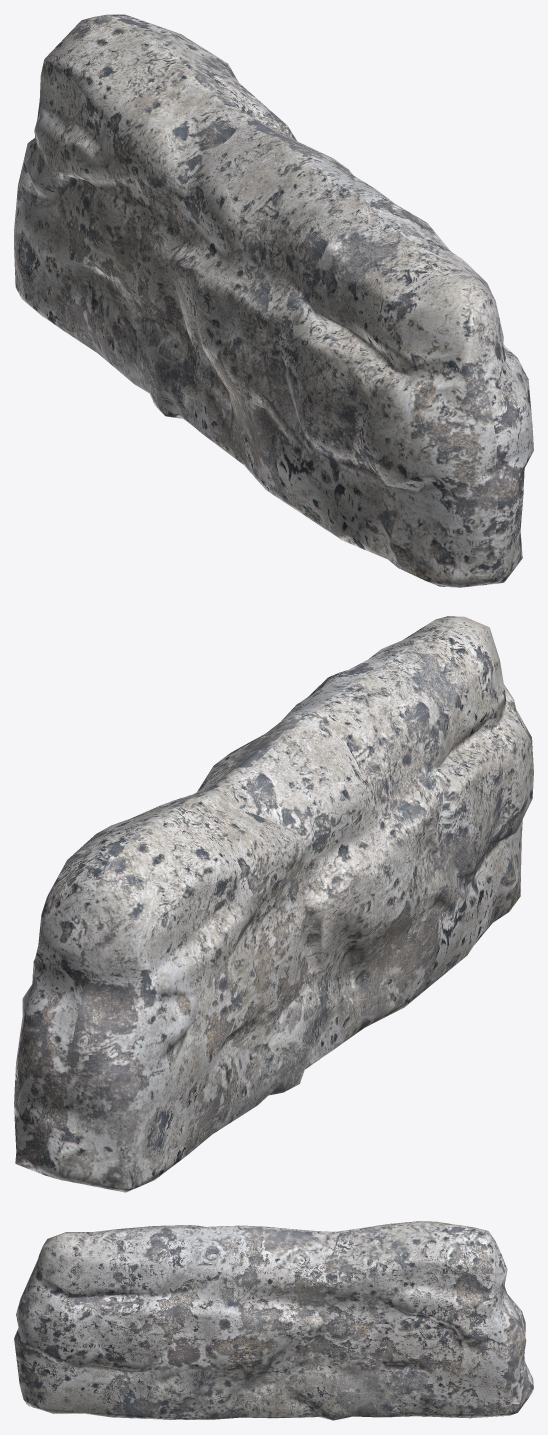
The model's file is SM_RockCliff_01.fbx.
3 renders of one model, top to bottom at view 1: azimuth 30°, elevation 25°; view 2: azimuth 150°, elevation 25°; view 3: azimuth 270°, elevation 25°, orthographic. The views are drawn at different scales.
Parts seen in each view (by area): view 1: SM_RockCliff_01_LOD0; view 2: SM_RockCliff_01_LOD0; view 3: SM_RockCliff_01_LOD0.
Boxes of the visible parts, bbox=[...] form: SM_RockCliff_01_LOD0: bbox=[14, 14, 533, 587]; SM_RockCliff_01_LOD0: bbox=[14, 616, 533, 1192]; SM_RockCliff_01_LOD0: bbox=[14, 1221, 533, 1420].
Bounding box in the file's own units: 343 × 1400 × 537.
Materials: 1 (1 with a texture image).
